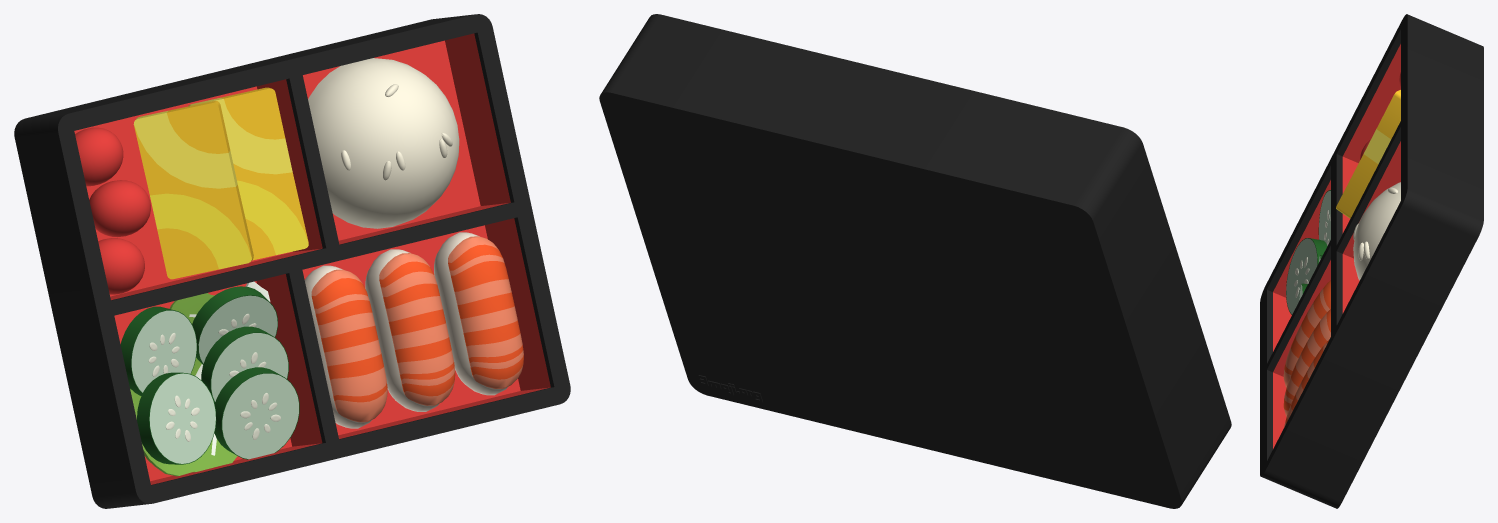
Rendered from bento_box.fbx.
3 views of the same model, side by side, from view 1: azimuth 30°, elevation 25°; view 2: azimuth 150°, elevation 25°; view 3: azimuth 270°, elevation 25° (orthographic). The views are drawn at different scales.
Visible parts, largest first — view 1: Cube.417; view 2: Cube.417; view 3: Cube.417.
Boxes of the visible parts, left/top/right/bottom form: Cube.417: left=14, top=14, right=570, bottom=508; Cube.417: left=599, top=14, right=1231, bottom=508; Cube.417: left=1260, top=14, right=1483, bottom=508.
Size of the model in its own units: 215 by 173 by 110.
1 material, 1 textured.
